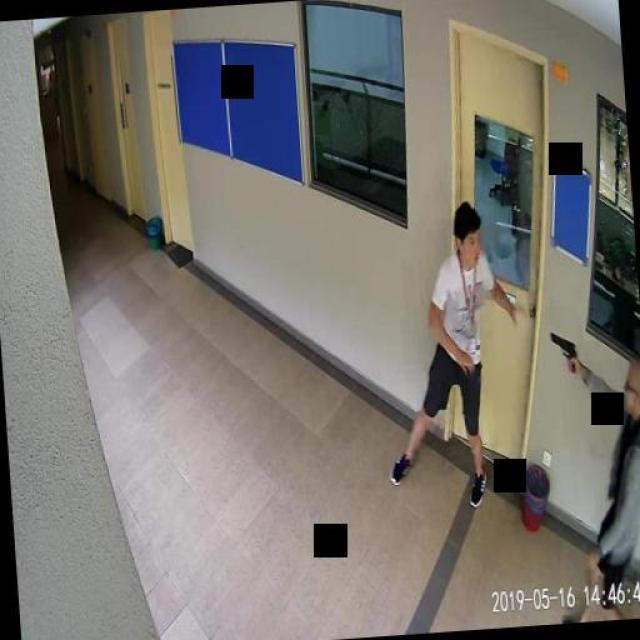gun: (549, 328, 576, 372)
